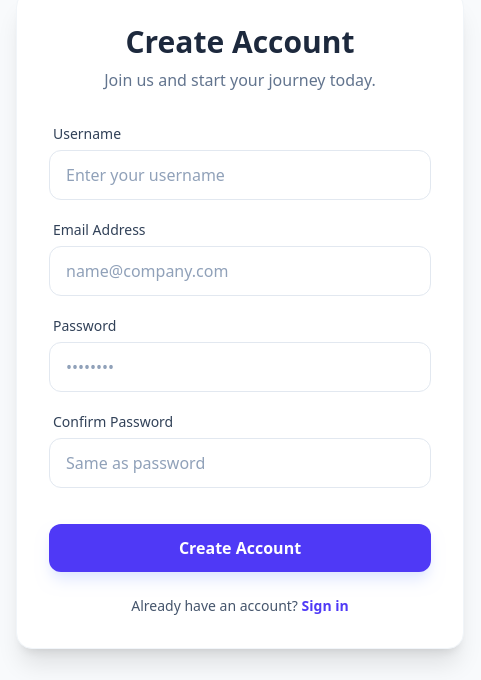
Test case: SignUp Integration Test › SignUp Fail › Validation Error › When Username is less than two character,show the Error message under Username field
Type "email@email.com" into the field with placeholder "name@company.com". click: (240, 271)
box: top-left (49, 246), bottom-right (431, 296)
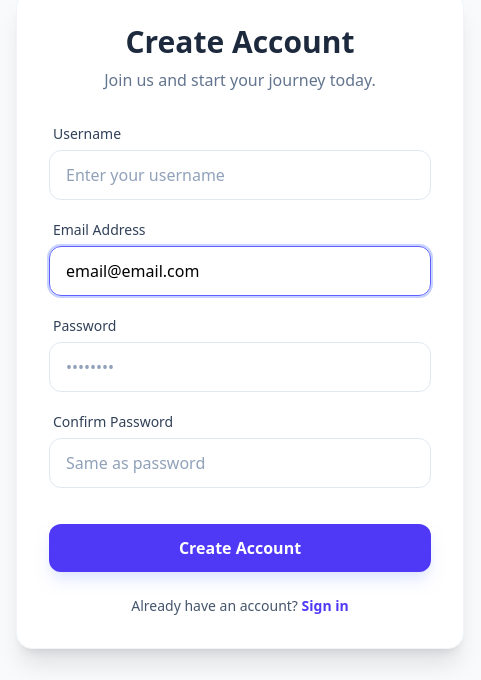
Type "Awyd899?" into the password field with placeholder "••••••••". click: (240, 367)
box: top-left (49, 342), bottom-right (431, 392)
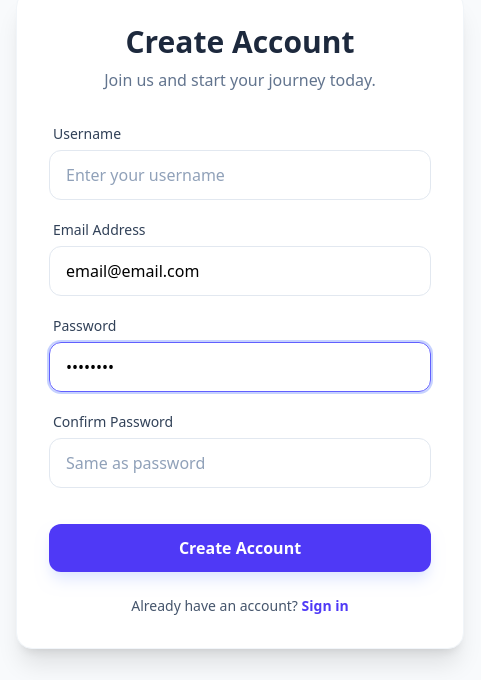
Type "Awyd899?" into the password field with placeholder "Same as password". click: (240, 463)
box: top-left (49, 438), bottom-right (431, 488)
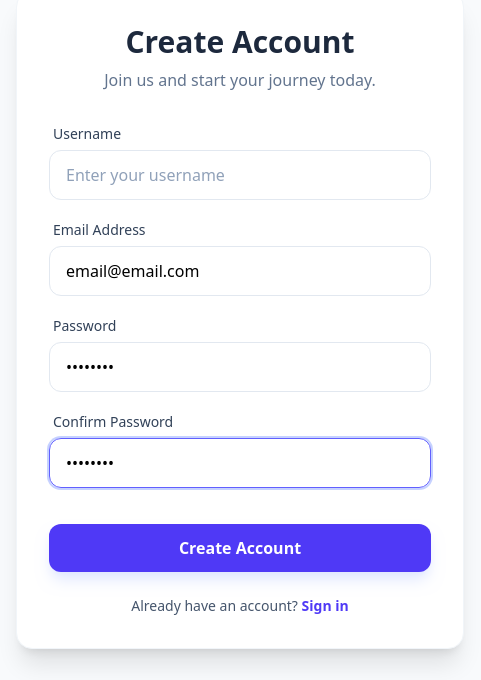
Type "u" into the field with placeholder "Enter your username". click: (240, 175)
box: top-left (49, 150), bottom-right (431, 200)
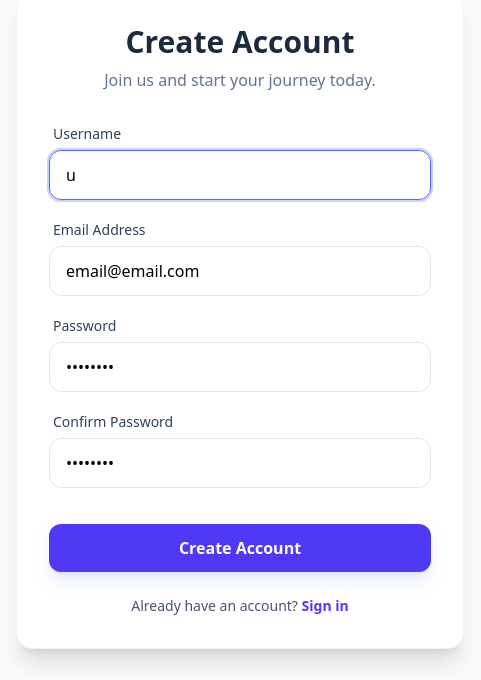
Click the button "Create Account". click: (240, 548)
box: top-left (49, 524), bottom-right (431, 572)
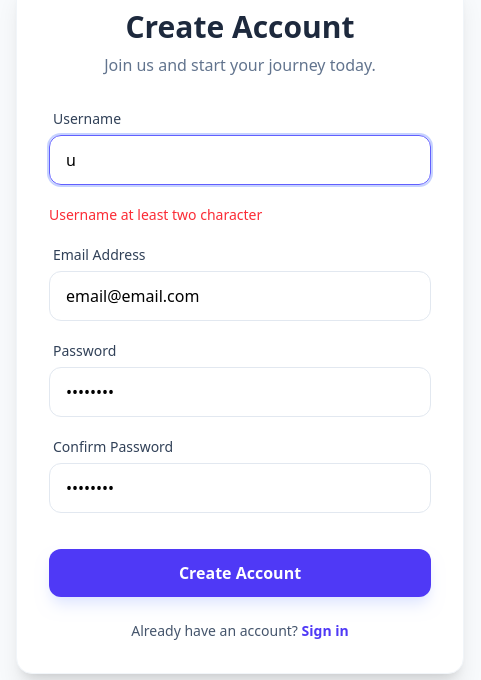
Expected: the text "Username at least two character" is shown, top-left (49, 205), bottom-right (262, 224)
